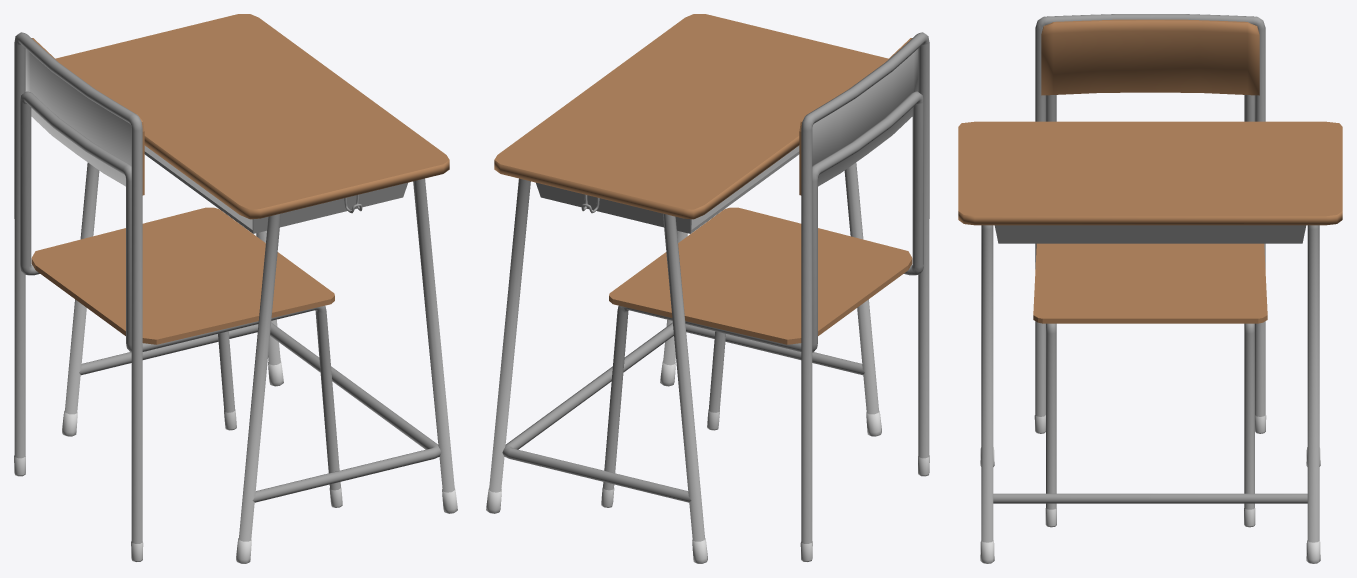
Rendered from SchoolDesk.fbx.
3 renders of one model, left to right at view 1: azimuth 30°, elevation 25°; view 2: azimuth 150°, elevation 25°; view 3: azimuth 270°, elevation 25°, orthographic. The views are drawn at different scales.
Visible parts, largest first — view 1: Cube, Cube.001; view 2: Cube, Cube.001; view 3: Cube, Cube.001.
Part boxes in pixels (x1,y1,x2,y2): Cube: (56,14,457,563); Cube.001: (14,32,342,561); Cube: (486,14,887,563); Cube.001: (601,32,929,561); Cube: (958,121,1342,563); Cube.001: (1033,14,1267,527).
Size of the model in its own units: 364 by 511 by 428.
